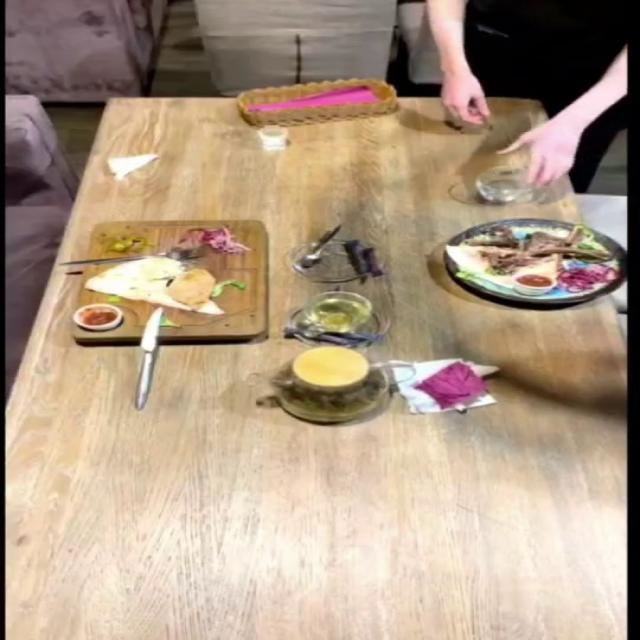meat: (405, 204, 640, 311)
tea: (230, 342, 470, 446)
